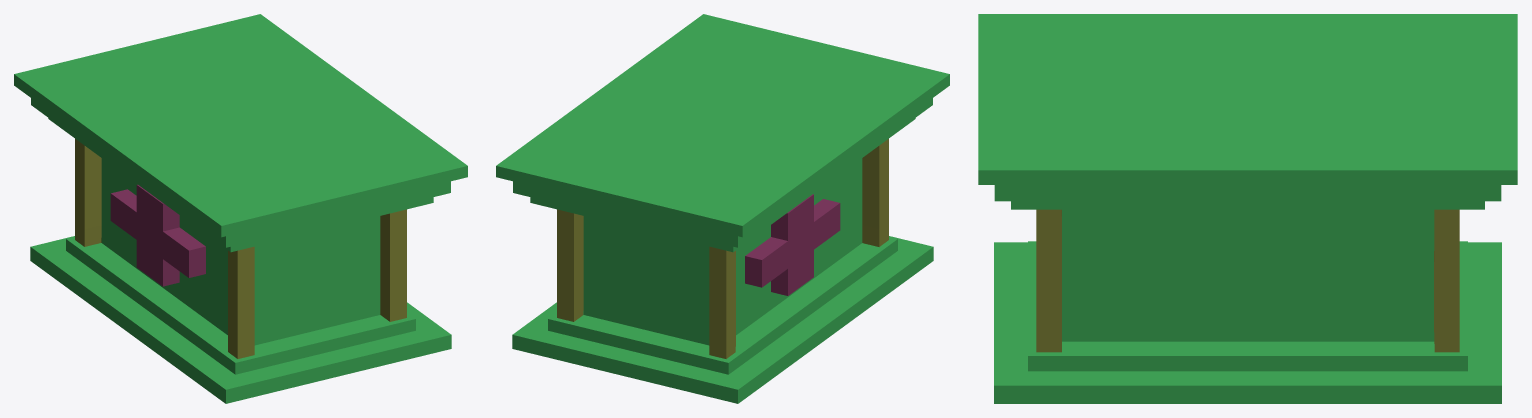
File: Altar_Unwrapped.FBX
3 renders of one model, left to right at view 1: azimuth 30°, elevation 25°; view 2: azimuth 150°, elevation 25°; view 3: azimuth 270°, elevation 25°, orthographic. The views are drawn at different scales.
Parts seen in each view (by area): view 1: Box001; view 2: Box001; view 3: Box001.
Part boxes in pixels (<box>): Box001: <box>14,14,467,403</box>; Box001: <box>496,14,949,403</box>; Box001: <box>978,14,1517,403</box>.
Bounding box in the file's own units: 21.84 × 15.66 × 31.84.
